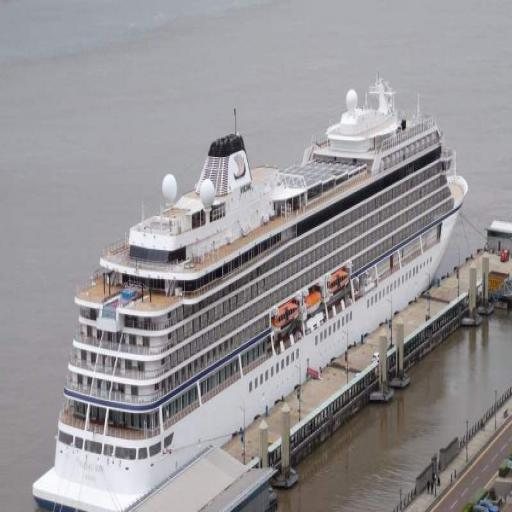cruises: (30, 76, 471, 512)
